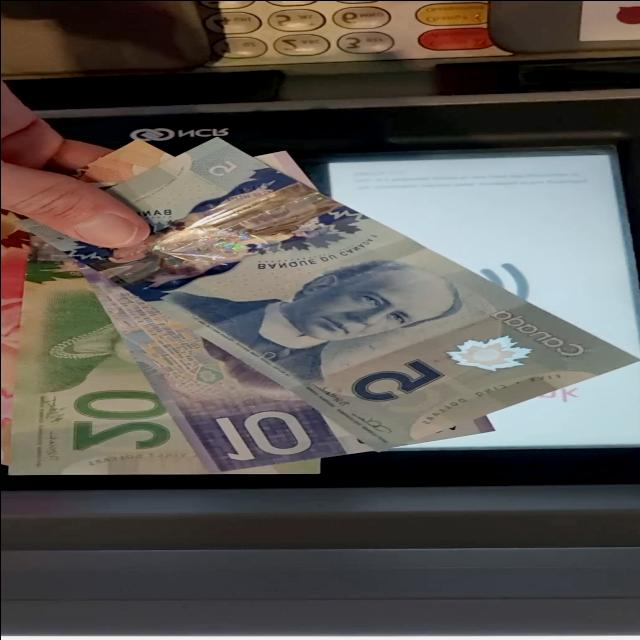10 cad: (70, 259, 371, 466)
20 cad: (19, 229, 202, 473)
5 cad: (100, 136, 640, 451)
